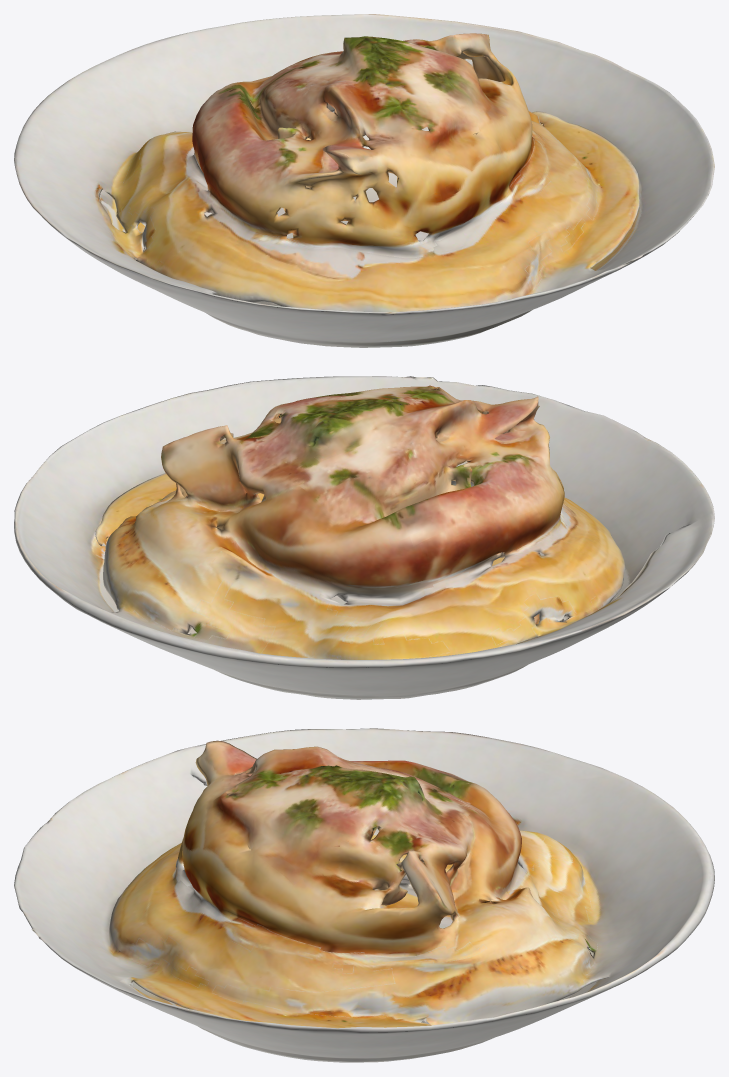
Rendered from Pasta.glb.
The picture shows the model from 3 angles, top to bottom: view 1: azimuth 30°, elevation 25°; view 2: azimuth 150°, elevation 25°; view 3: azimuth 270°, elevation 25°; orthographic projection.
Bounding box in the file's own units: 1.99 × 0.6669 × 1.99.
Materials: 1 (1 with a texture image).
